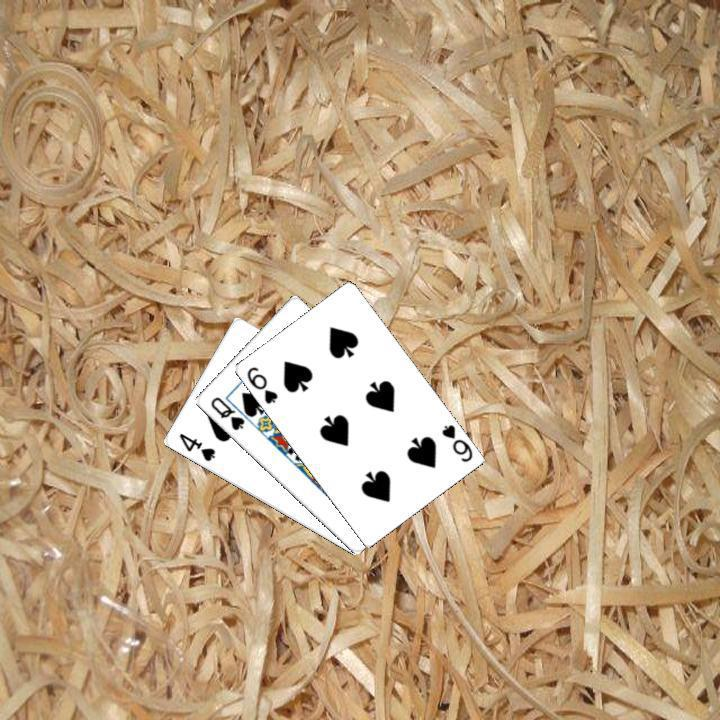4: (174, 429, 217, 463)
6: (242, 362, 279, 406), (437, 420, 474, 464)
Q: (206, 392, 246, 432)
